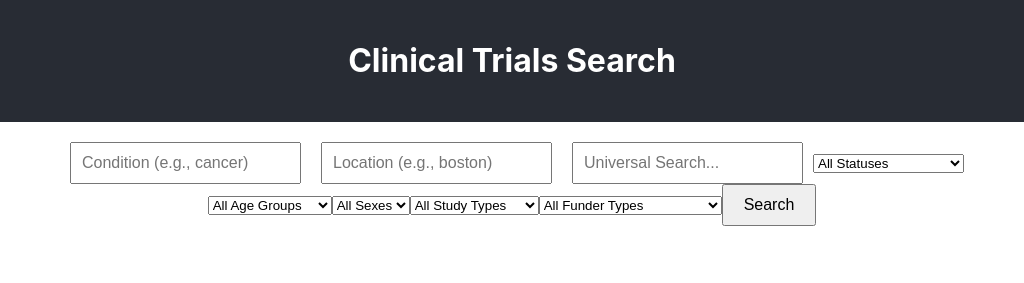
Test case: Frontend UI › handles API errors gracefully
Click the button "Search".
click(769, 205)  # box x1=722 y1=184 x2=816 y2=226
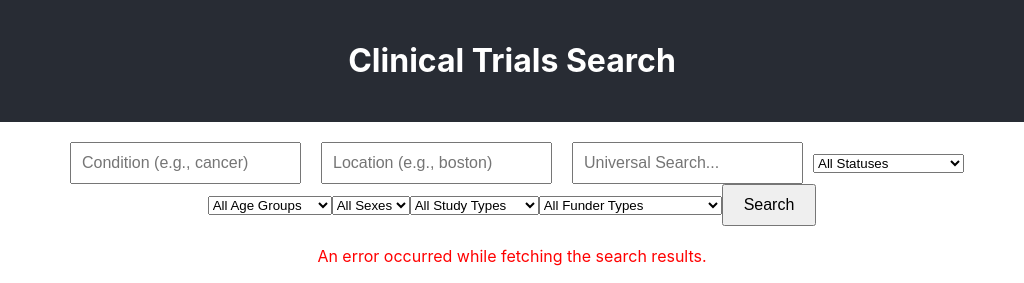
Now the text "An error occurred while fetching the search results." is shown, box x1=317 y1=246 x2=707 y2=266
